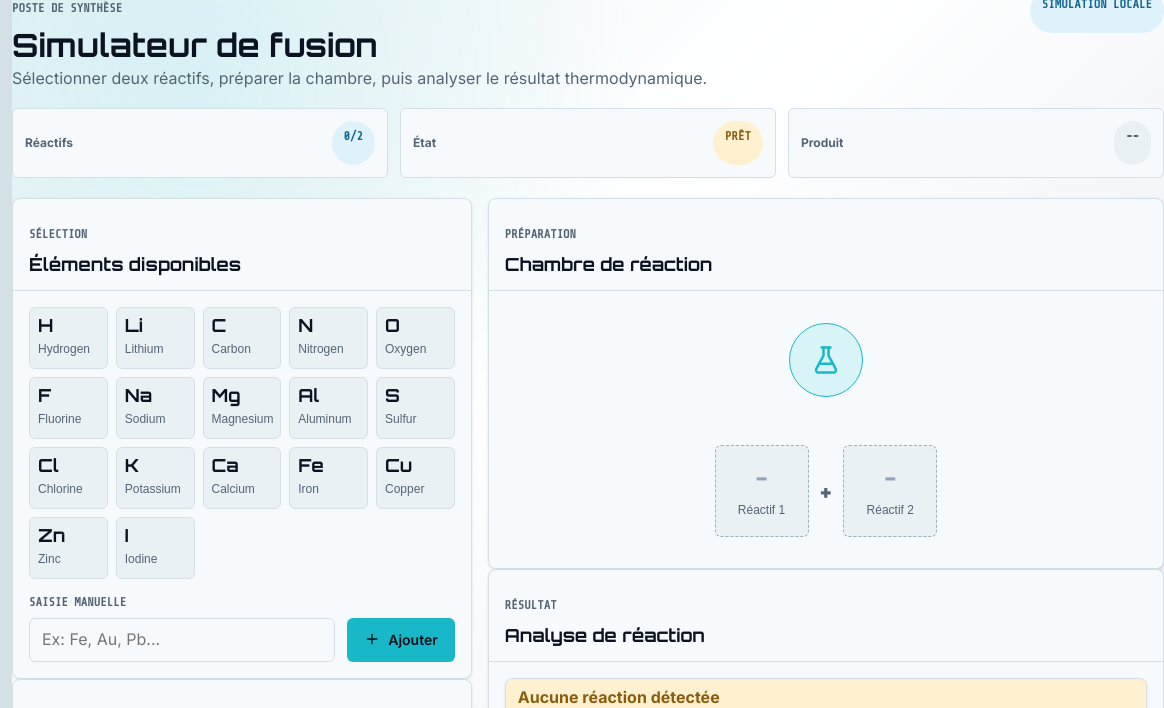
Test: FusionCore › renders the Na + H2O special-case cascade equation correctly
The width and height of the screenshot is (1164, 708).
Click the button "Na Sodium".
click(155, 408)  # box [116,377,195,439]
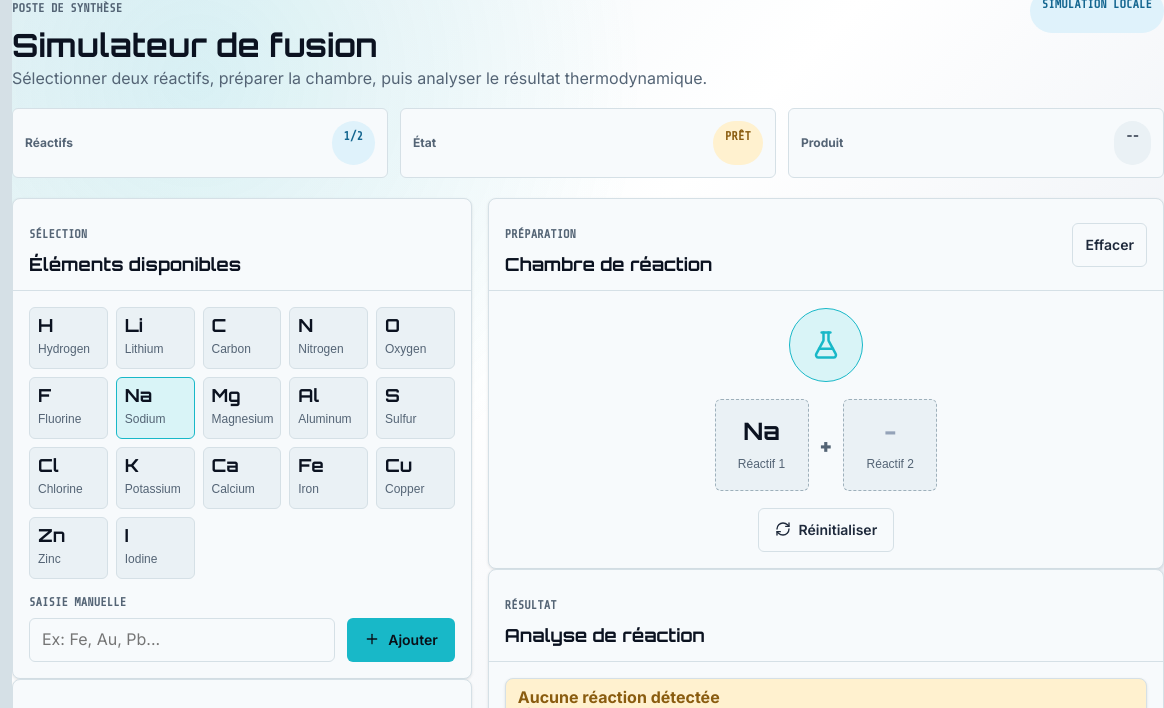
Type "H2O" into the field with placeholder "Ex: Fe, Au, Pb...".
click(182, 640); type("H2O")  # box [29,618,335,662]
Then press Enter
(page scrolled)
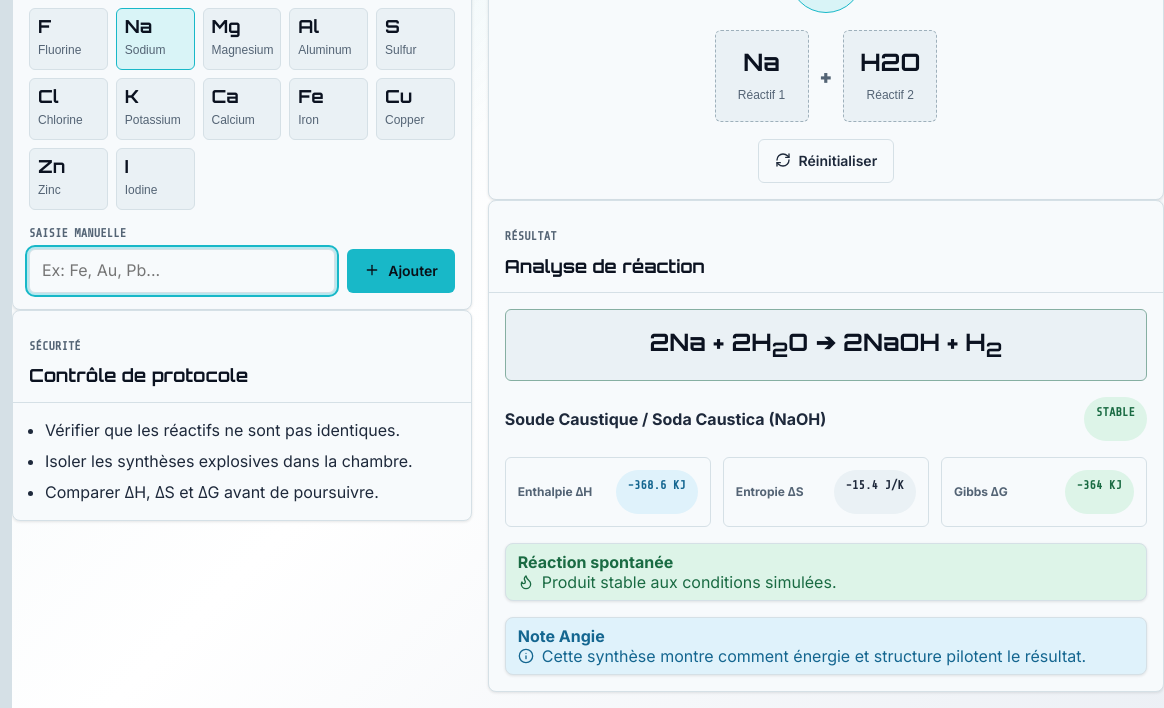
Check: the 3rd text "2" is shown, box [772,337,788,362]
